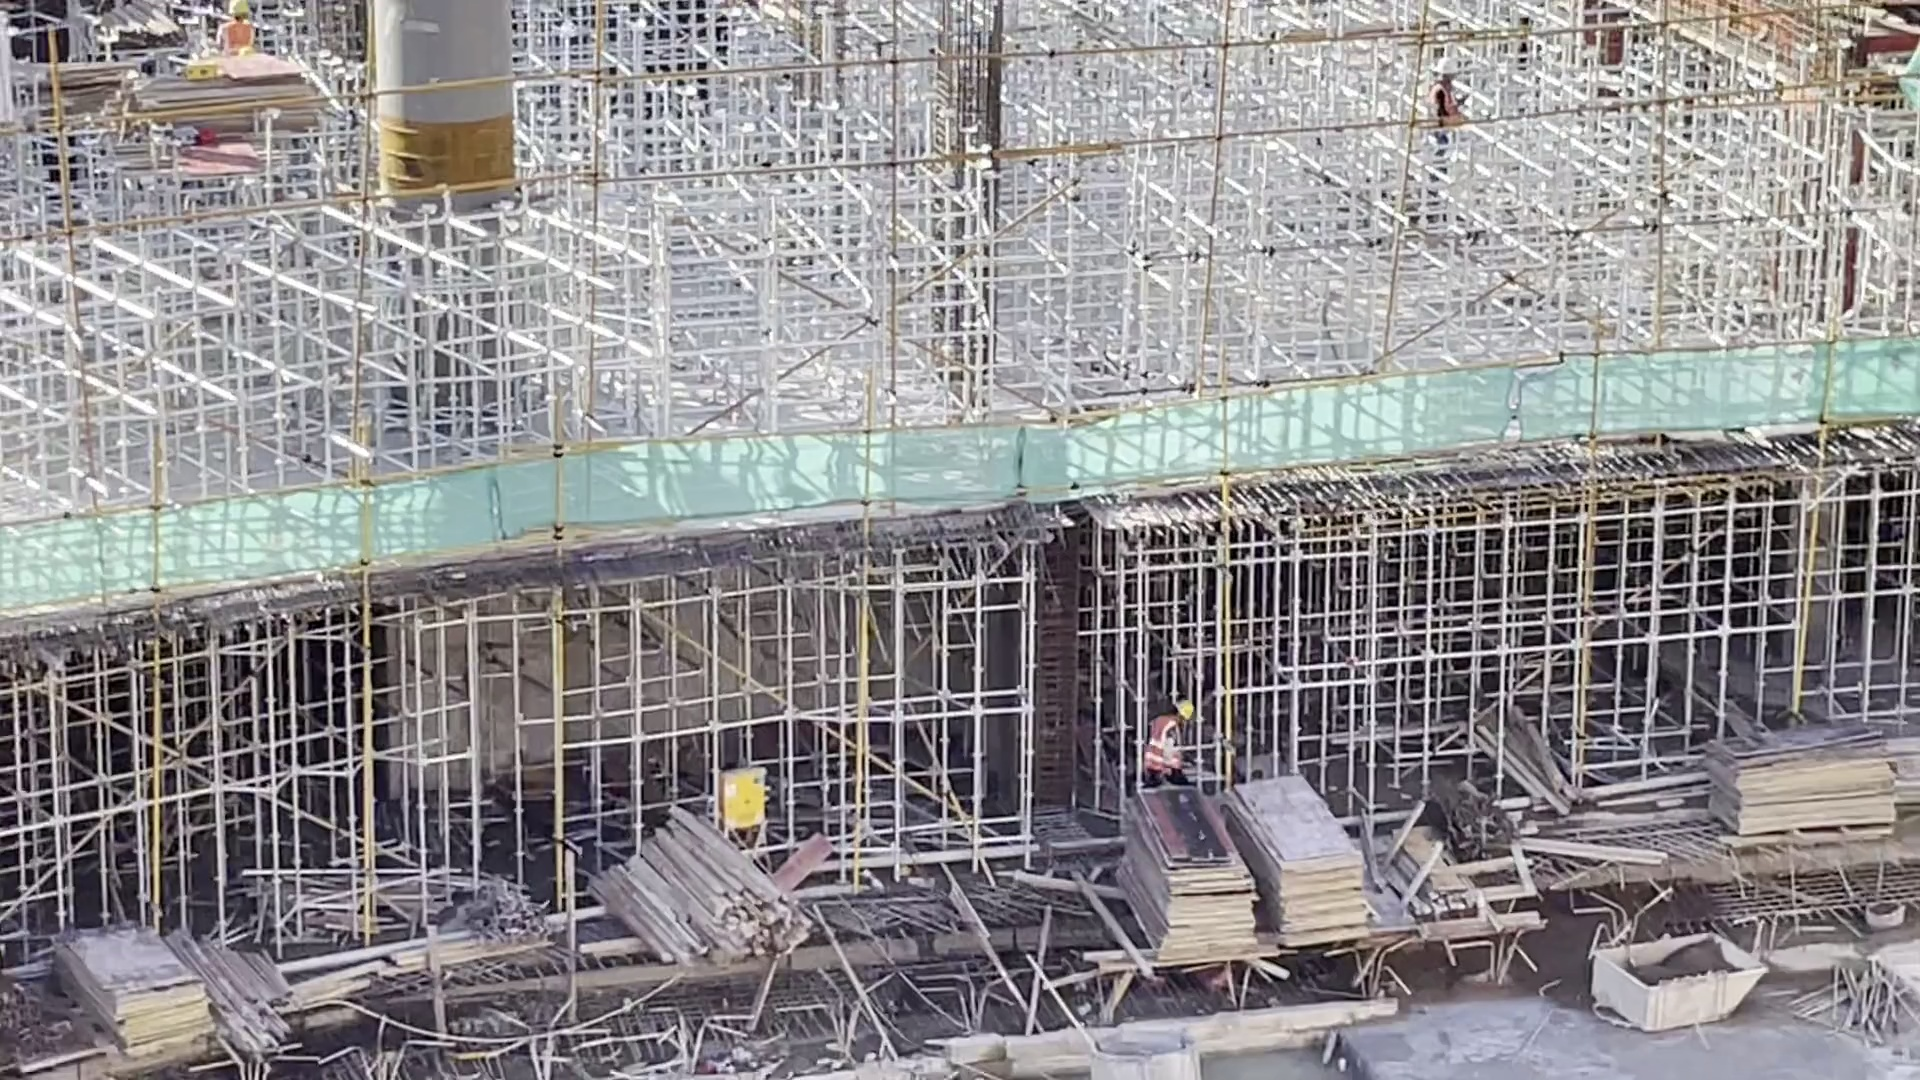board: (1103, 779, 1259, 974), (1218, 772, 1373, 950), (1703, 717, 1904, 849), (47, 917, 223, 1057), (132, 52, 326, 142)
ebox: (706, 763, 774, 832)
helmet: (1170, 697, 1194, 718), (1435, 58, 1459, 76), (226, 2, 253, 17)
hopper: (1584, 928, 1776, 1037), (1081, 1028, 1198, 1080)
person: (1142, 698, 1197, 786), (1430, 55, 1477, 120), (213, 1, 261, 53)
vest: (1146, 715, 1184, 773), (216, 22, 259, 51), (1430, 81, 1461, 119)
wood: (586, 802, 817, 967), (211, 946, 304, 1061)
